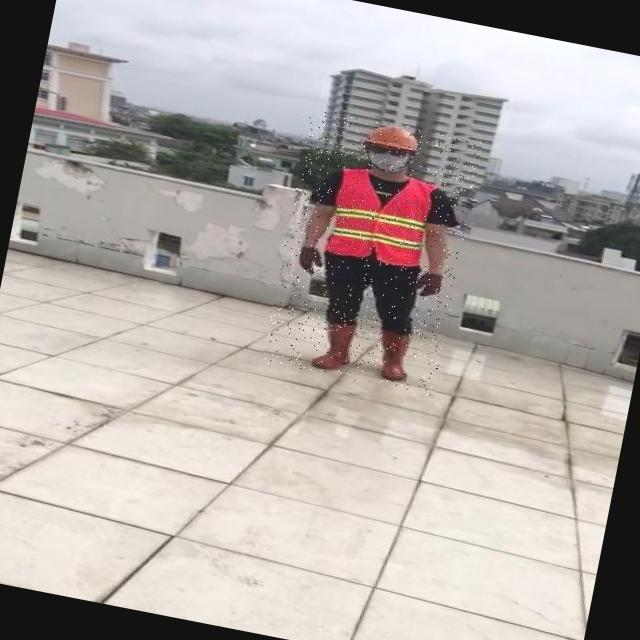boots: (310, 318, 364, 376), (374, 330, 417, 384)
gloves: (414, 266, 448, 300), (294, 244, 326, 276)
helmet: (360, 122, 428, 156)
vest: (322, 165, 437, 271)
